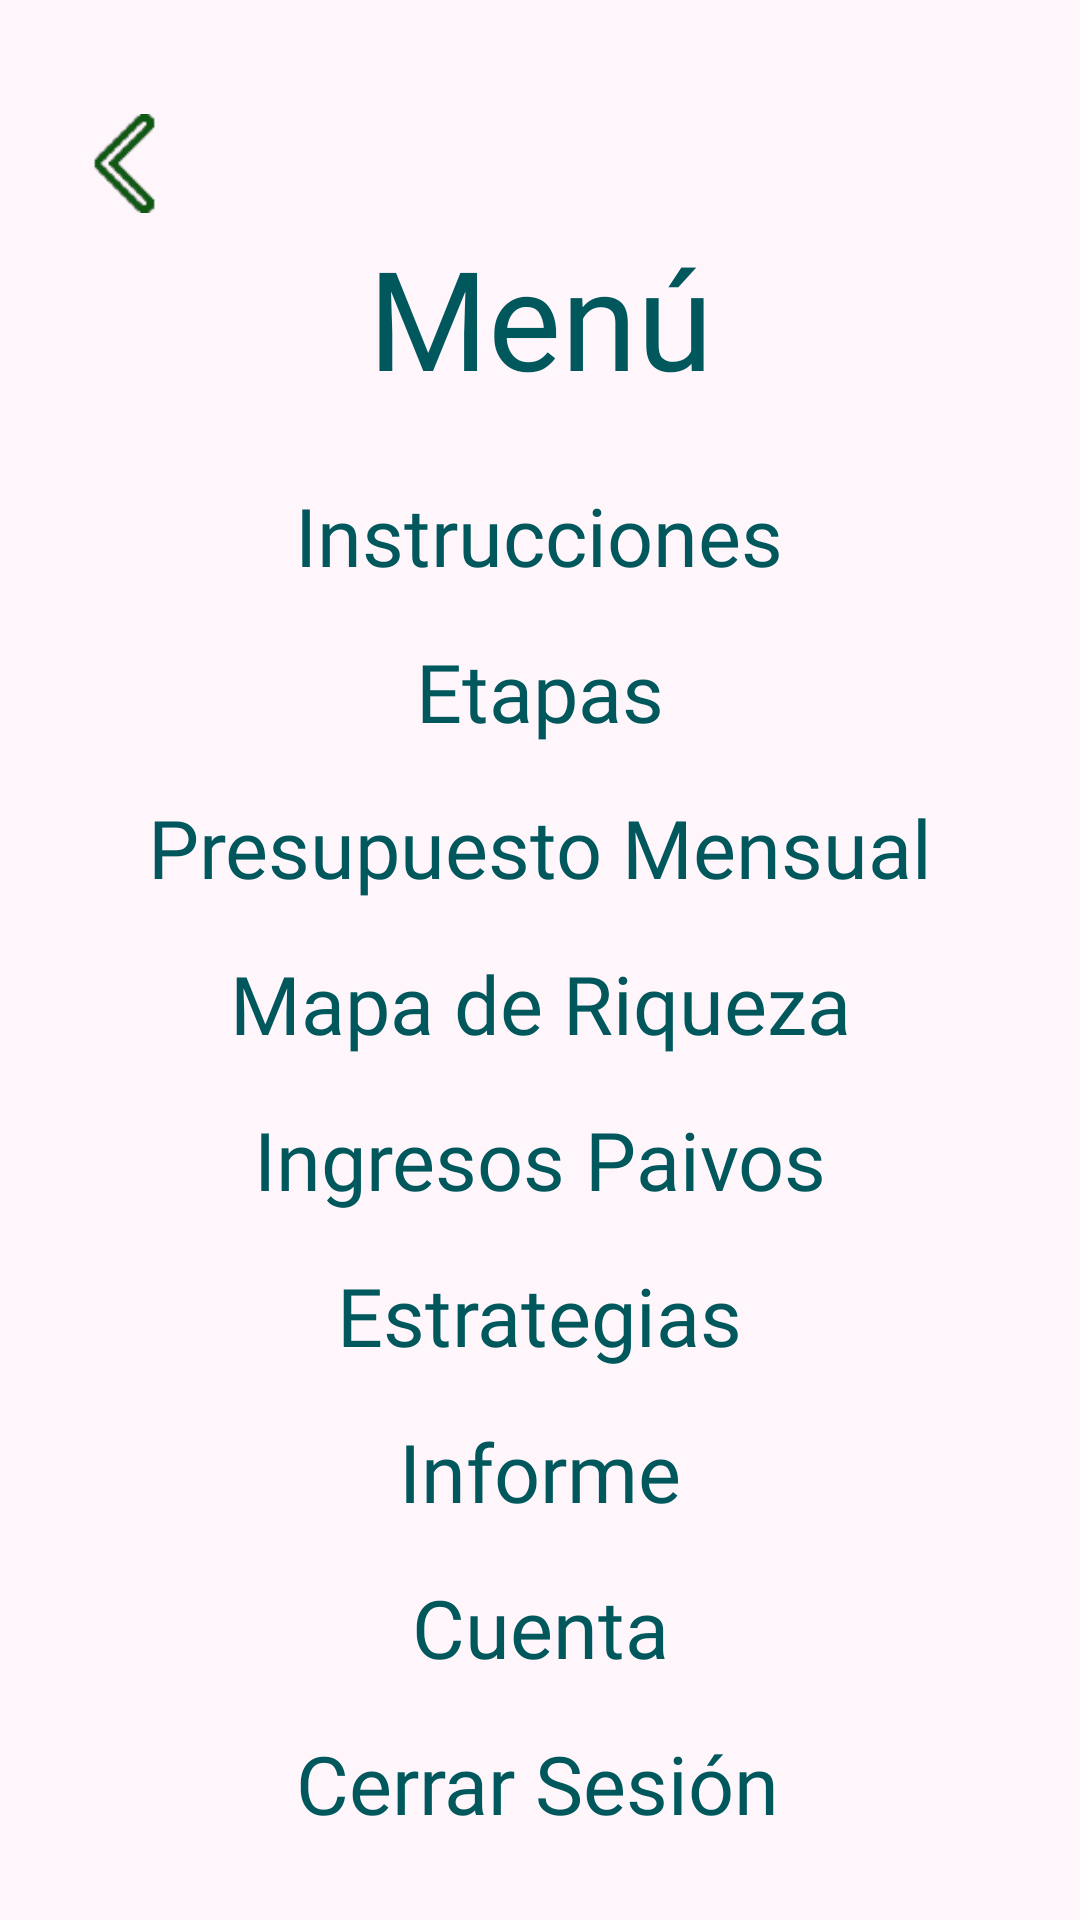

Screen size 1080w x 1920h. Icon name, then its center in pixels as [x,y]:
flecha: [124,163]
